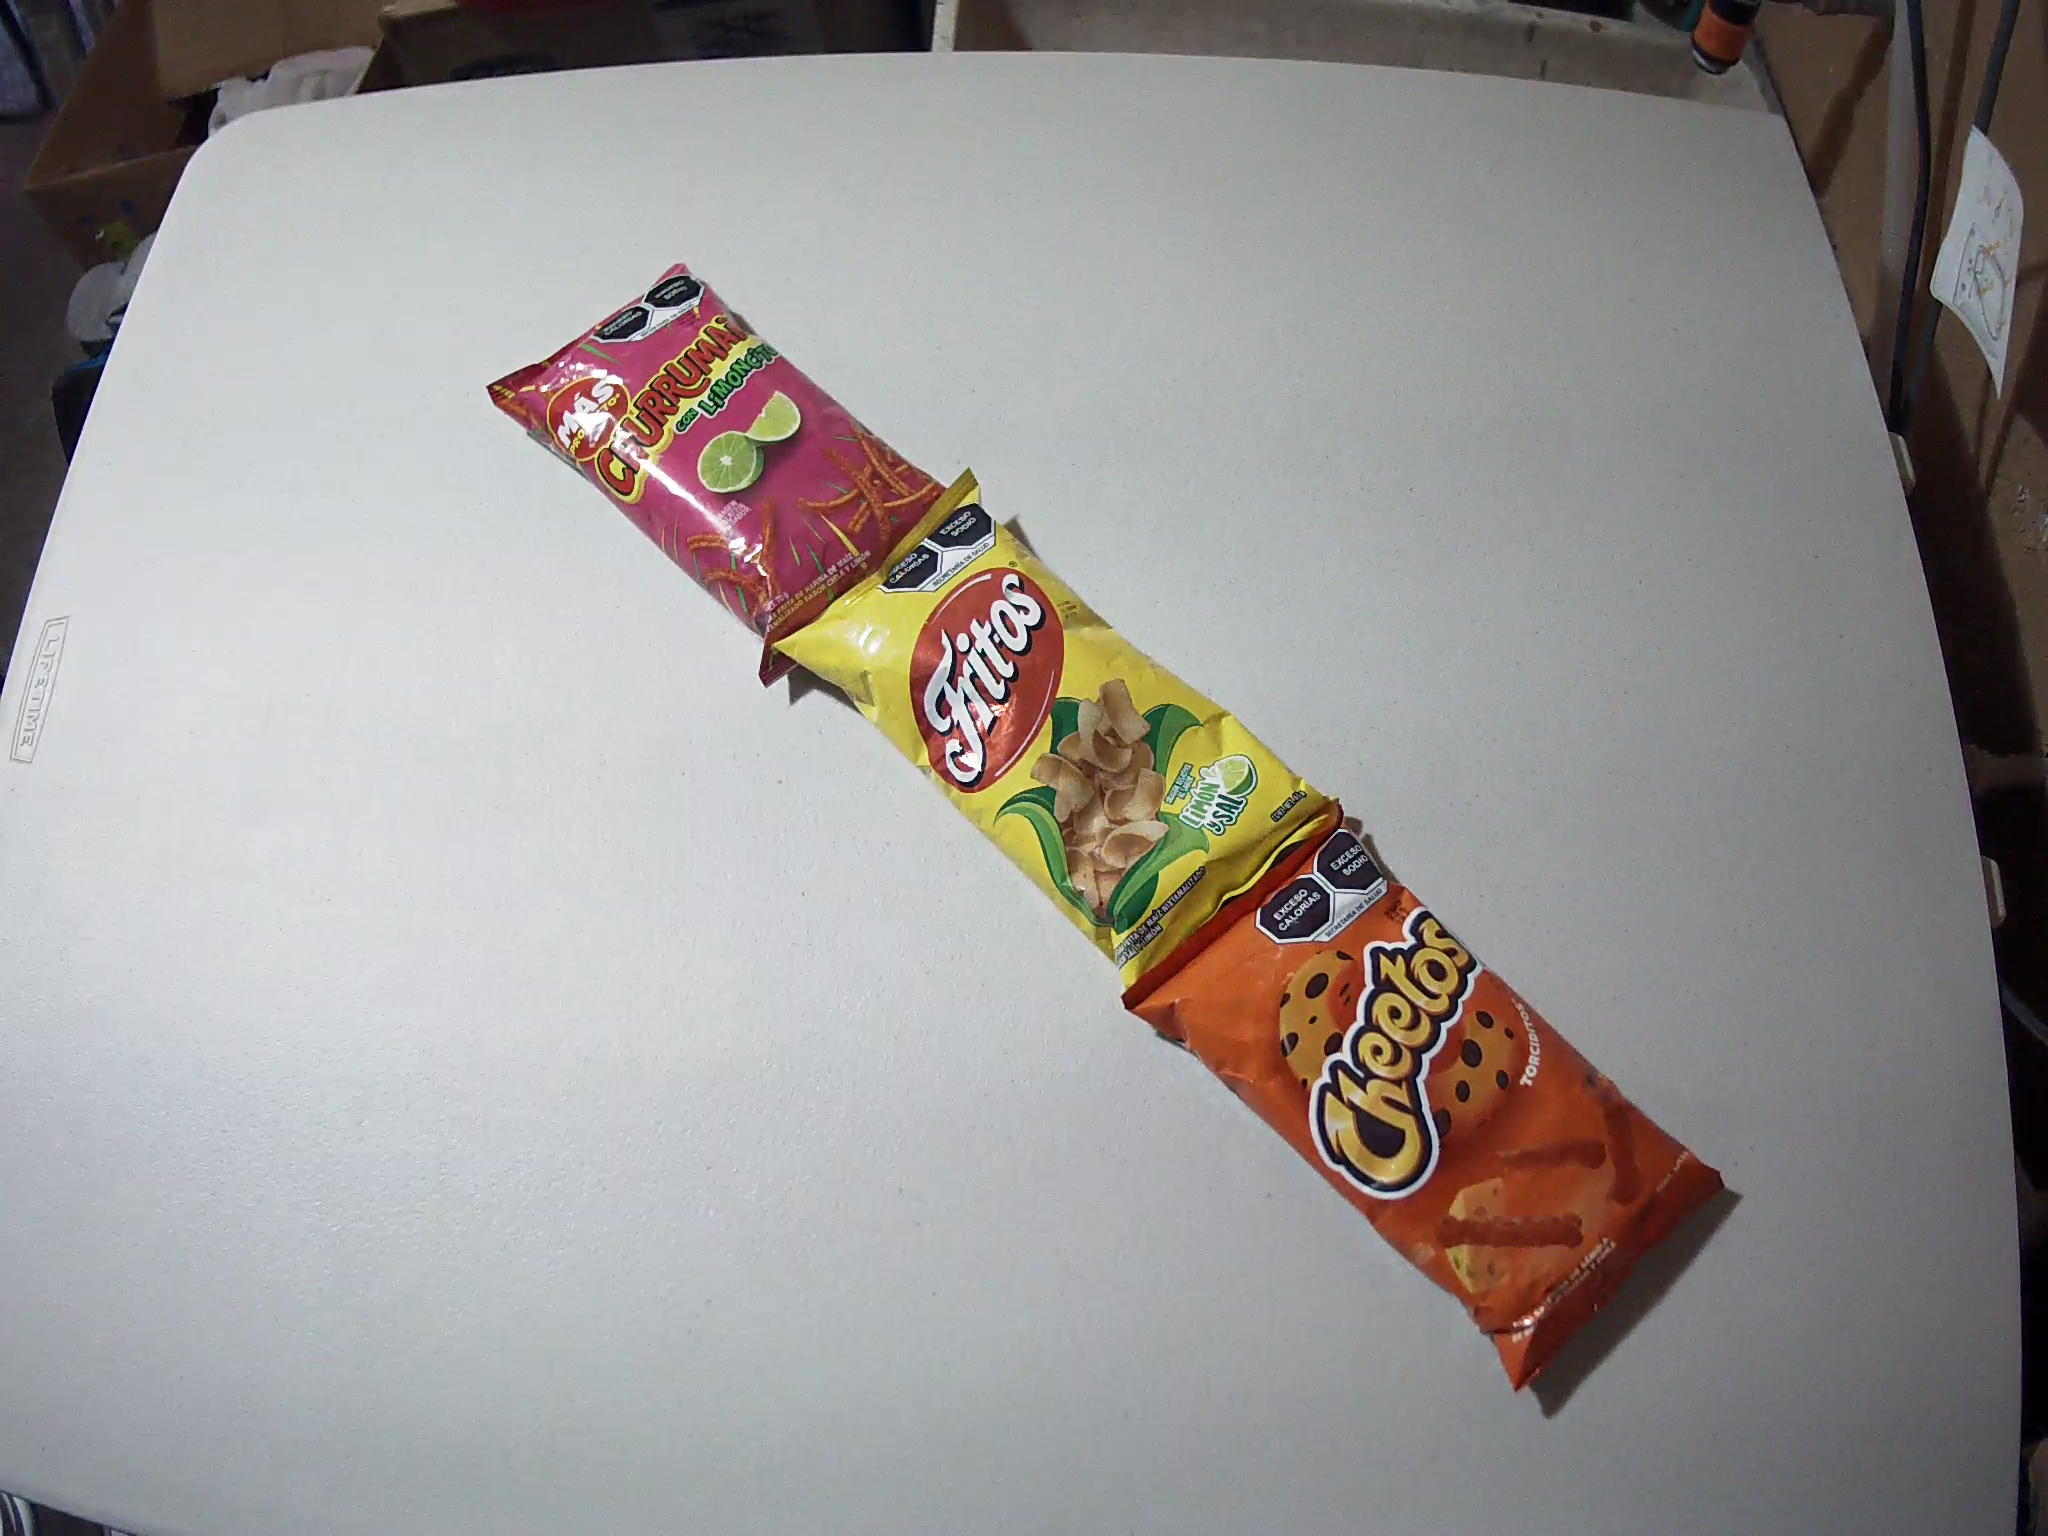CheetosTorciditos_55_F: (1122, 800, 1722, 1392)
Churrumais_70_F: (489, 260, 951, 682)
FritosSalLimon_65_F: (771, 473, 1330, 991)
